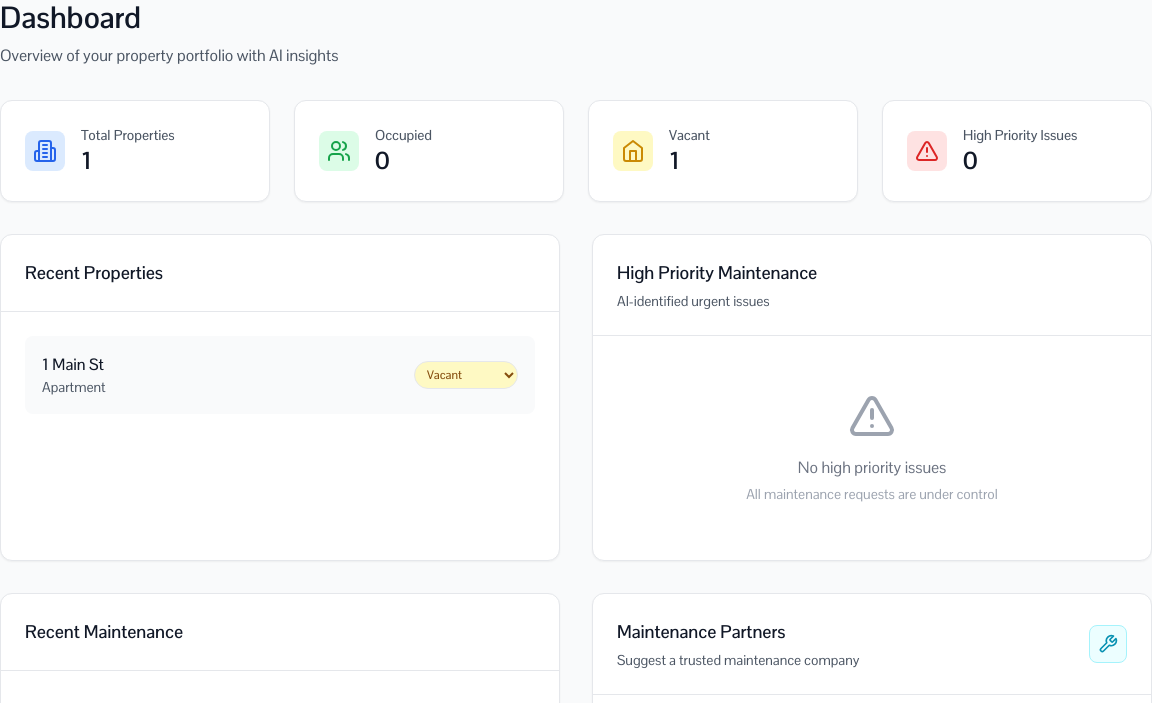
Scenario: live dropdowns › updates every property status control, count, and filter without a refresh
The width and height of the screenshot is (1152, 703).
Later steps or results of the test are not shown.
Expected: the button "Occupied 0" is shown, [294,100,564,202]
Expected: the button "Vacant 1" is shown, [588,100,858,202]
Select "Occupied" in the dropdown named "Status for 1 Main St" at (466, 375), box [414,361,518,389]
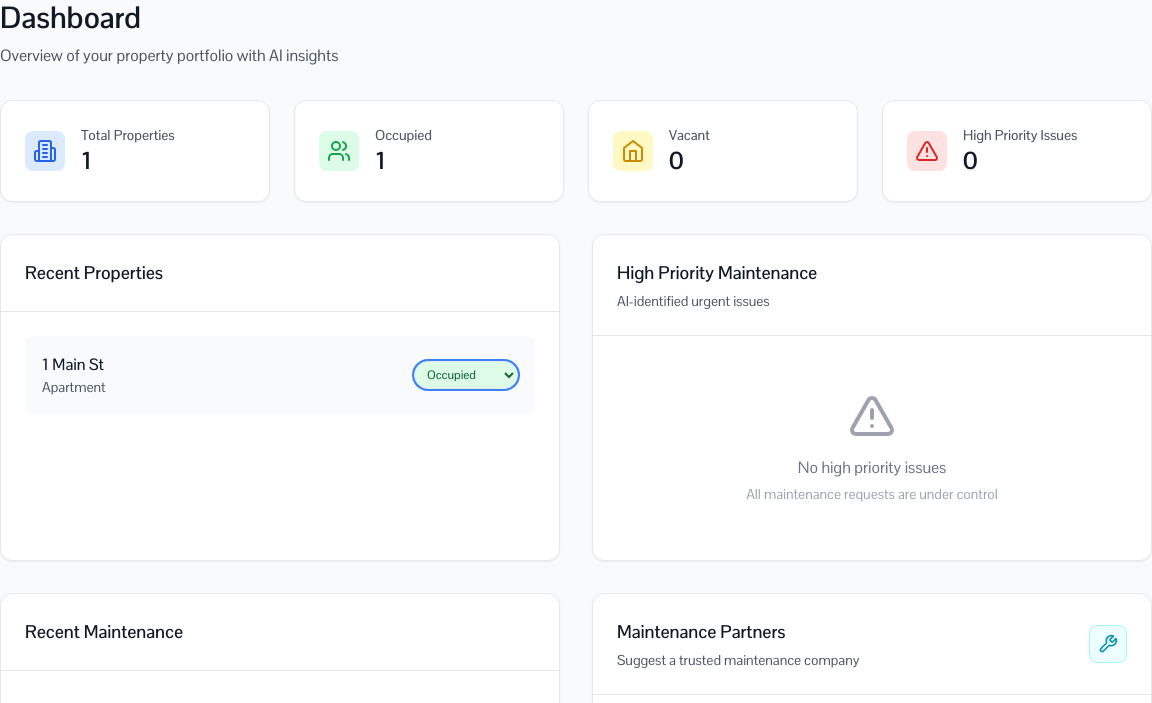
Expected: the button "Occupied 1" is shown, [294,100,564,202]
Expected: the button "Vacant 0" is shown, [588,100,858,202]
Select "Maintenance" in the dropdown named "Status for 1 Main St" at (466, 375), box [414,361,518,389]
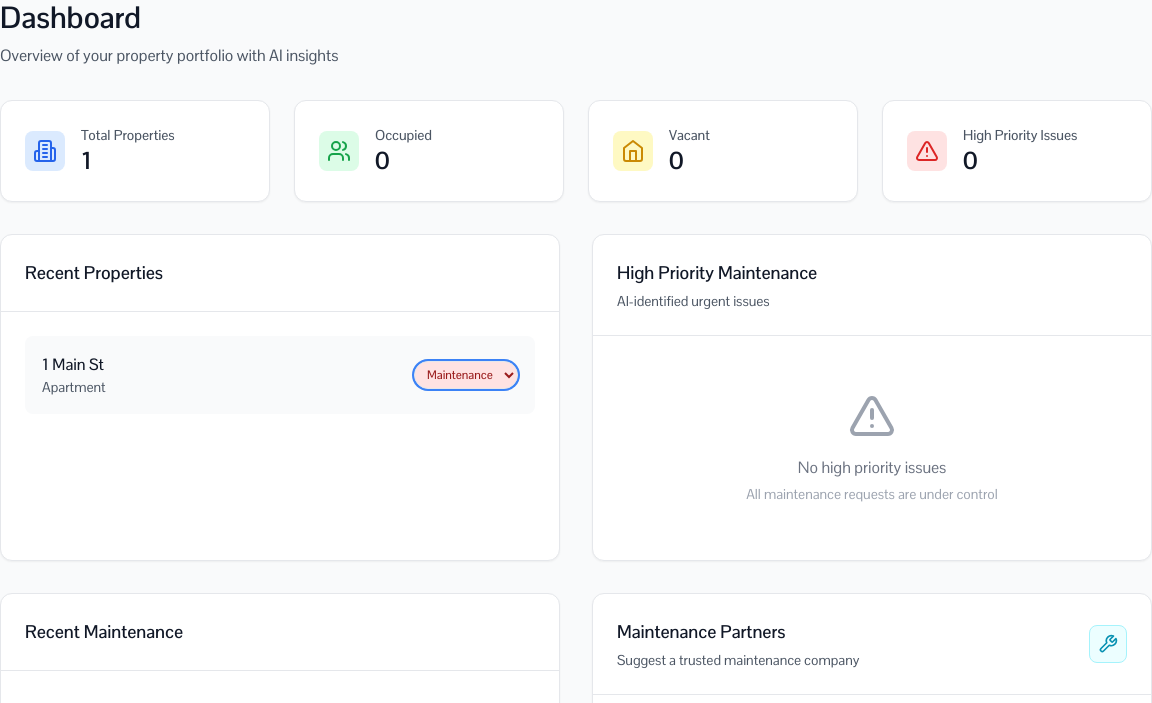
Expected: the button "Vacant 0" is shown, [588,100,858,202]
Expected: the button "Occupied 0" is shown, [294,100,564,202]
Select "Vacant" in the dropdown named "Status for 1 Main St" at (466, 375), box [414,361,518,389]
(page scrolled)
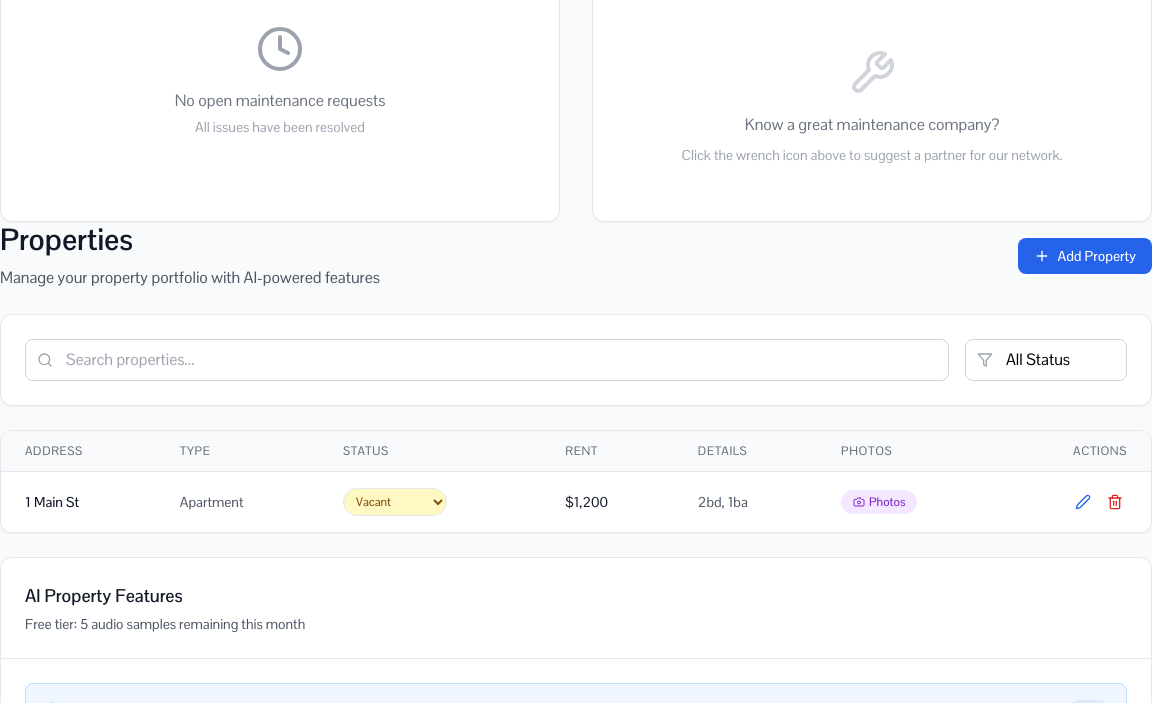
Select "Occupied" in the dropdown named "Filter properties by status" at (1046, 360), box [965,339,1127,381]
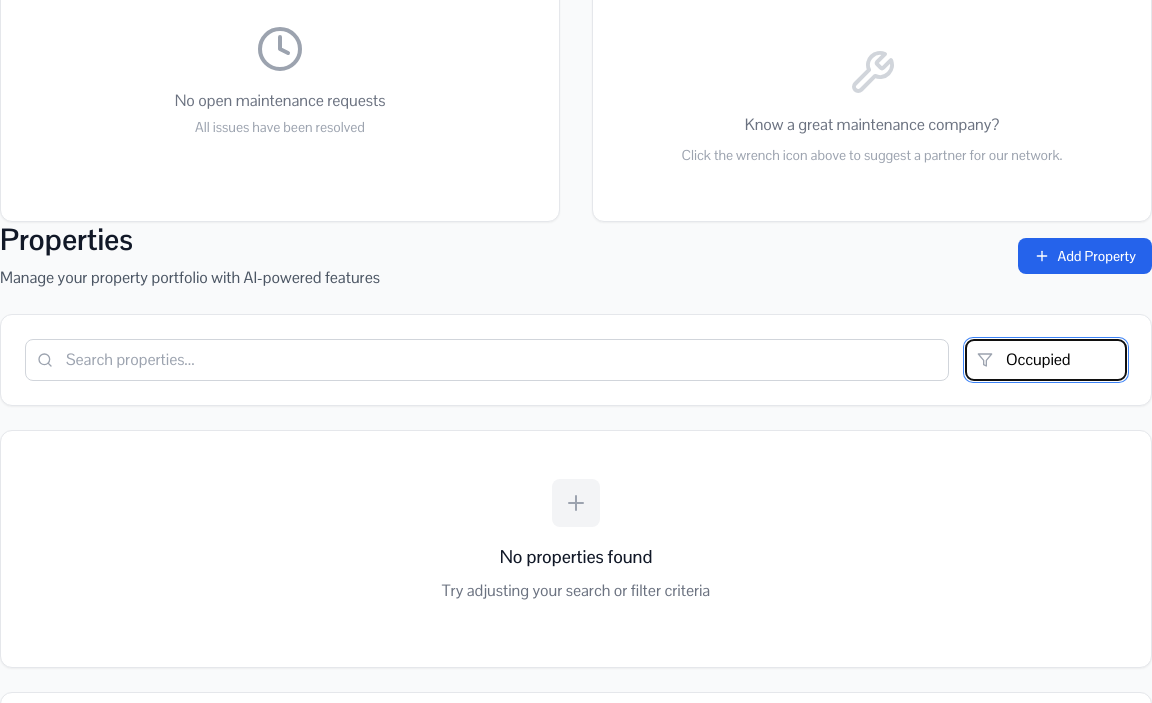
Expected: the heading "No properties found" is shown, [500,545,652,568]
